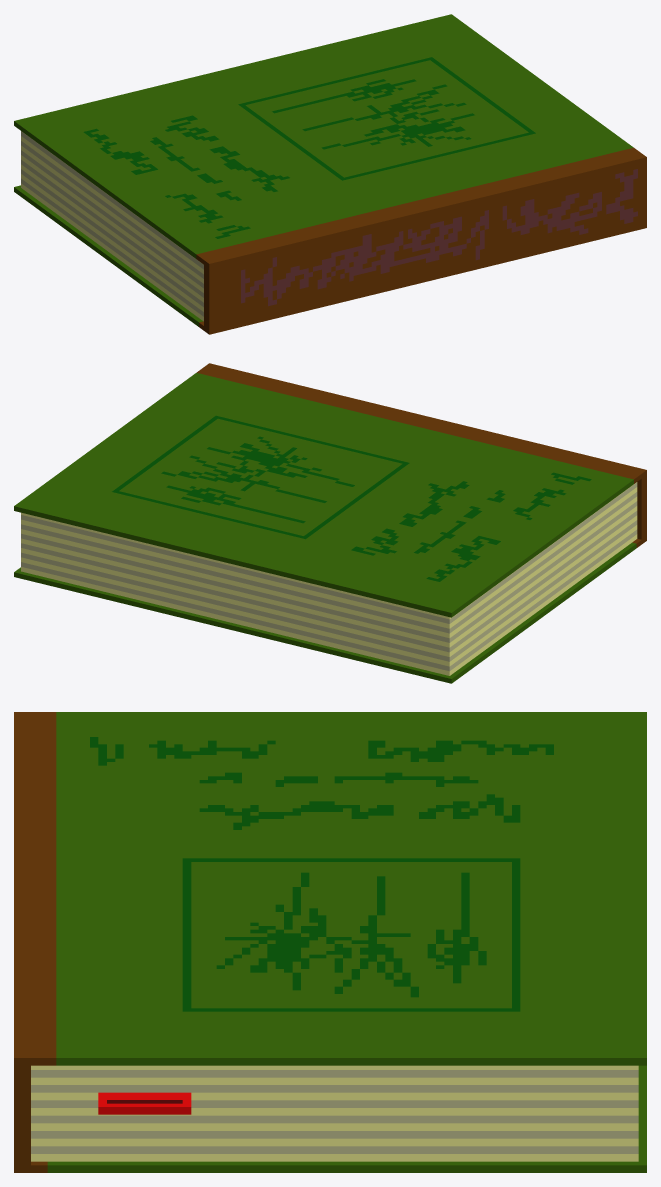
The picture shows the model from 3 angles, top to bottom: view 1: azimuth 30°, elevation 25°; view 2: azimuth 150°, elevation 25°; view 3: azimuth 270°, elevation 25°; orthographic projection. The views are drawn at different scales.
Parts seen in each view (by area): view 1: Object_2; view 2: Object_2; view 3: Object_2.
Part boxes in pixels (x1,y1,x2,y2): Object_2: (14, 14, 646, 334); Object_2: (14, 363, 646, 683); Object_2: (14, 712, 646, 1172).
Size of the model in its own units: 10 by 1.5 by 7.5.
Materials: 1 (1 with a texture image).
